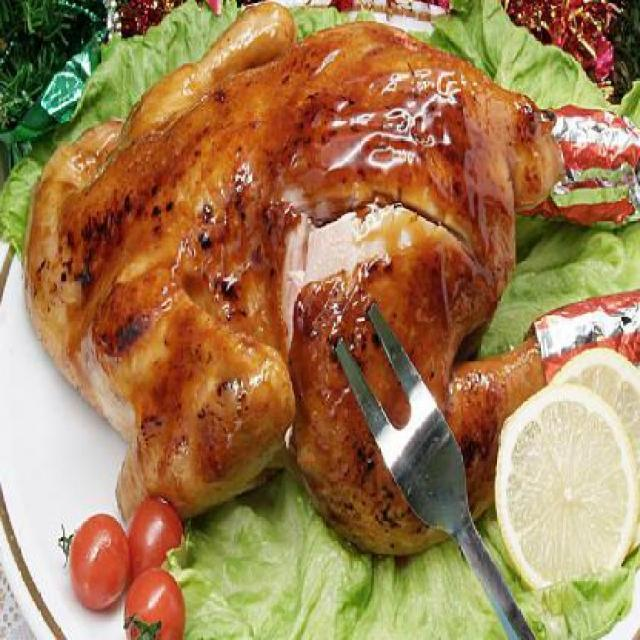Chicken roast: (17, 35, 586, 548)
